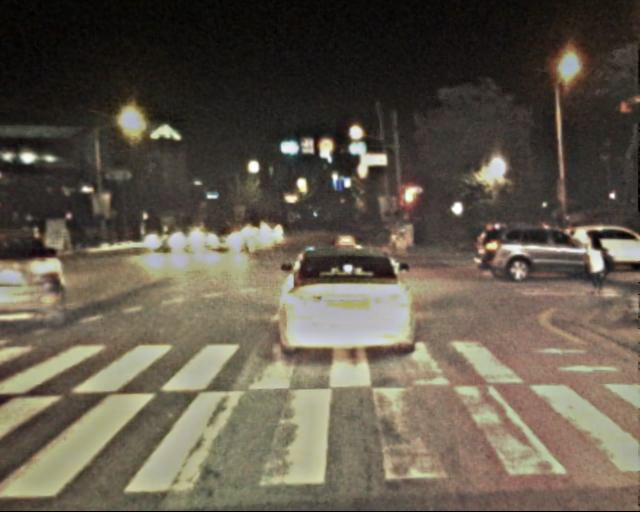person: (580, 229, 610, 303)
